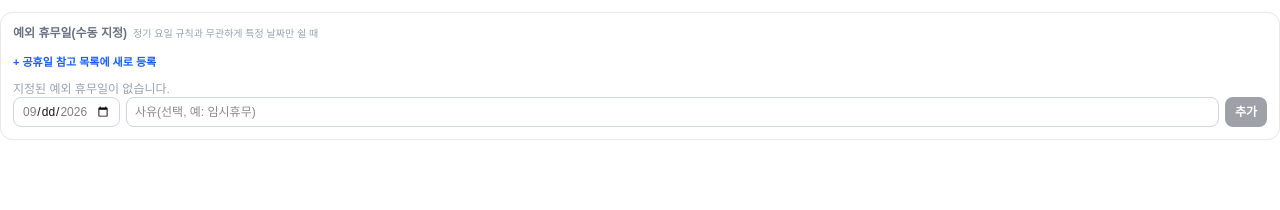
it: "공휴일 참고 목록에 새로 등록"으로 새 공휴일을 추가할 수 있다
Click the button "+ 공휴일 참고 목록에 새로 등록" at (85, 62), box 13,54 -> 156,70
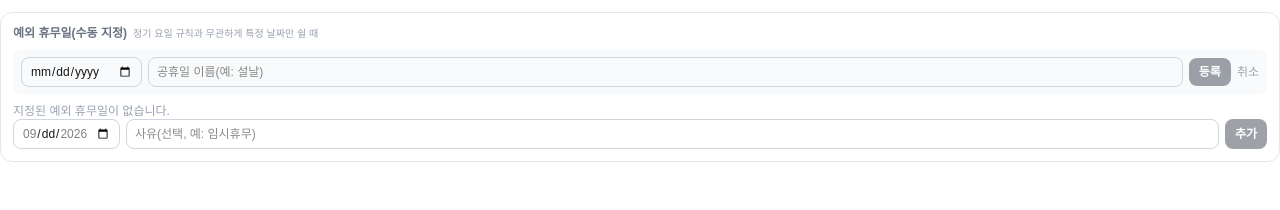
Type "추석" into the field with placeholder "공휴일 이름(예: 설날)" at (665, 72), box 148,57 -> 1183,87
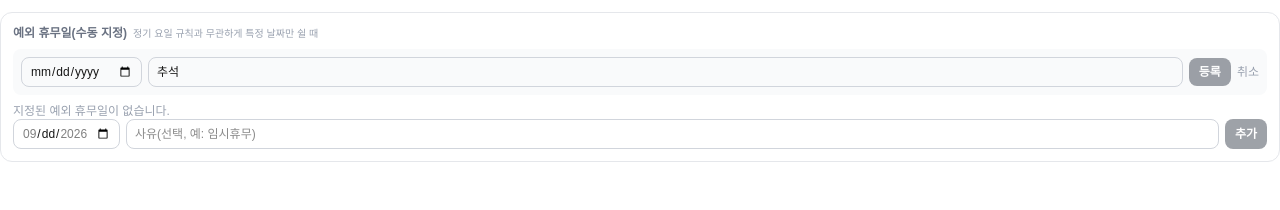
Type "2026-09-25" into the 1st date field at (82, 72), box 21,57 -> 142,87
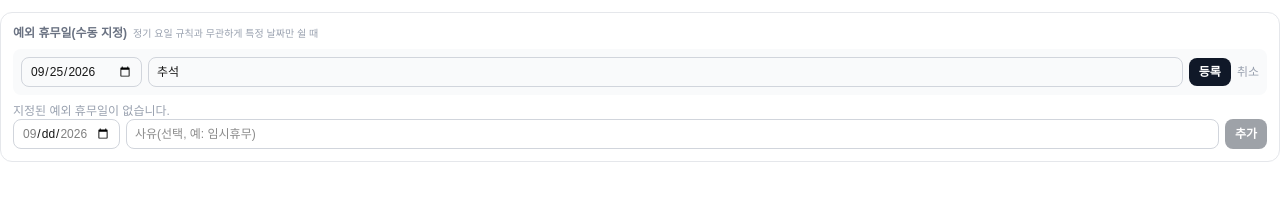
Click the button "등록" at (1210, 72), box 1189,58 -> 1231,86
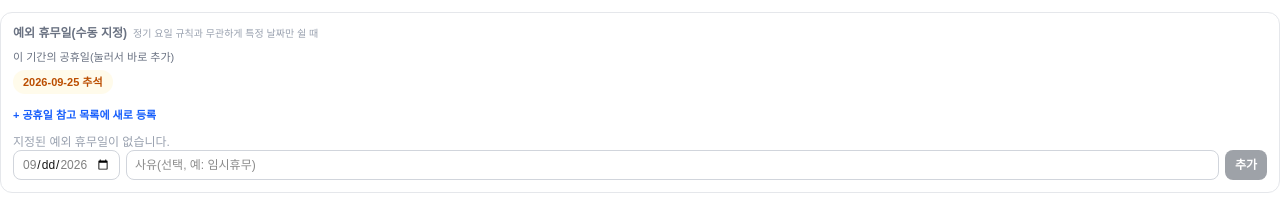
Check: the button "2026-09-25 추석" is shown, box 13,70 -> 113,94
